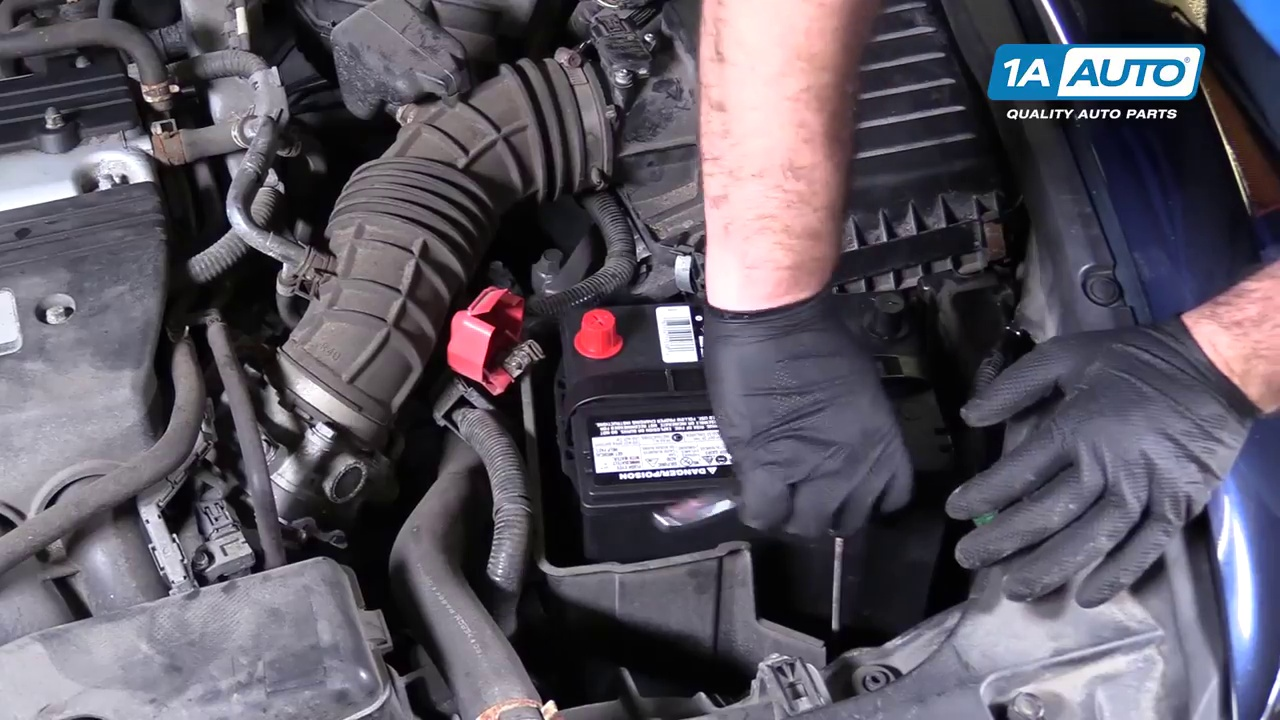battery: (548, 291, 964, 495)
pos_disconnected: (438, 277, 626, 397)
